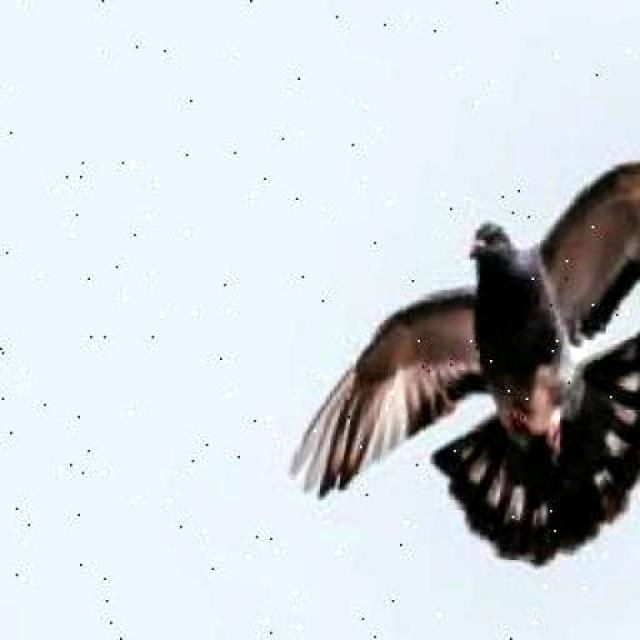airplane: (279, 78, 640, 599)
